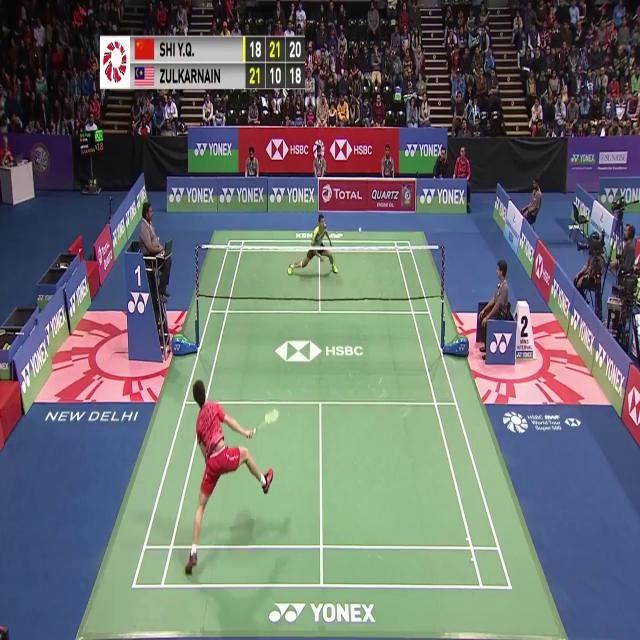Shuttlecock: (357, 224, 363, 236)
